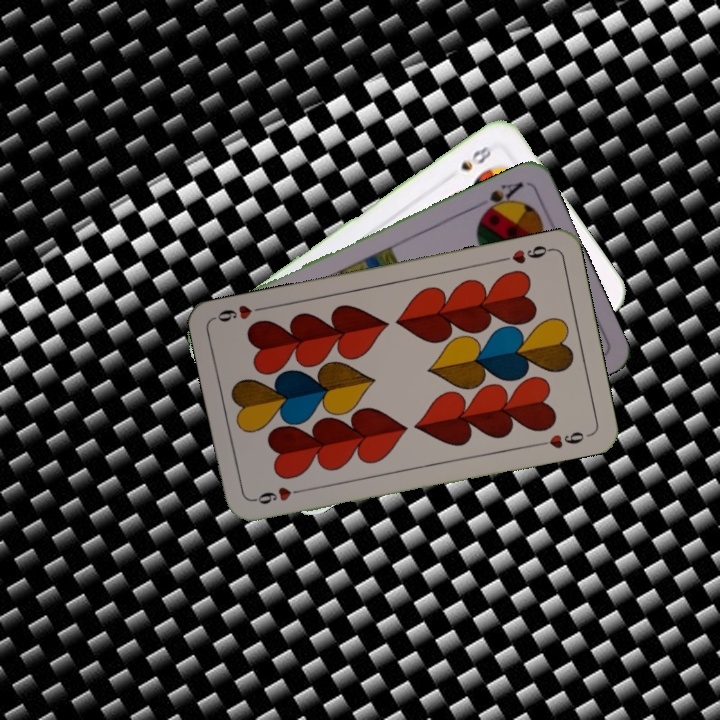H9: (496, 241, 555, 267), (249, 483, 308, 507)
S8: (456, 139, 497, 174)
SA: (477, 178, 526, 219)
